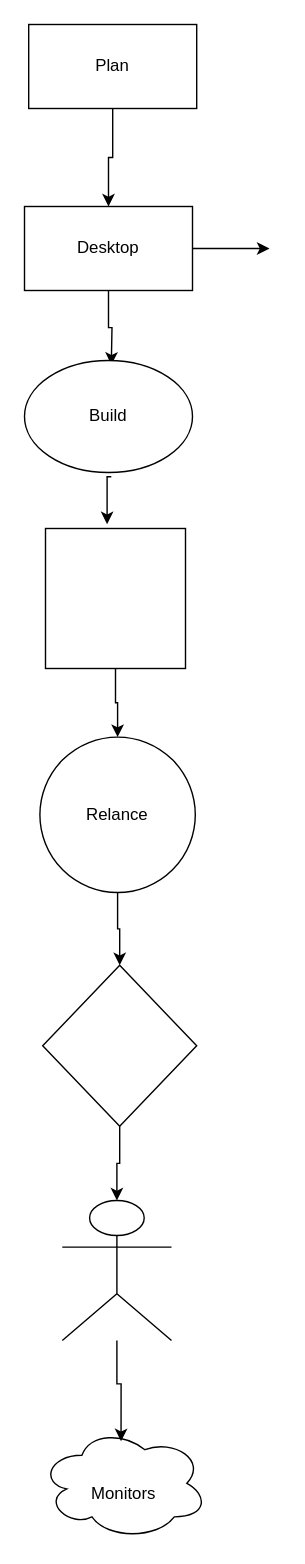
Image size: 305x1564. Some labels were removed from this diagram. The centre of each missing label's shape, as x and y in pixels:
"Display" belongs at (119,1045).
"opertrate" belongs at (116,1269).
"Text" belongs at (115,597).
